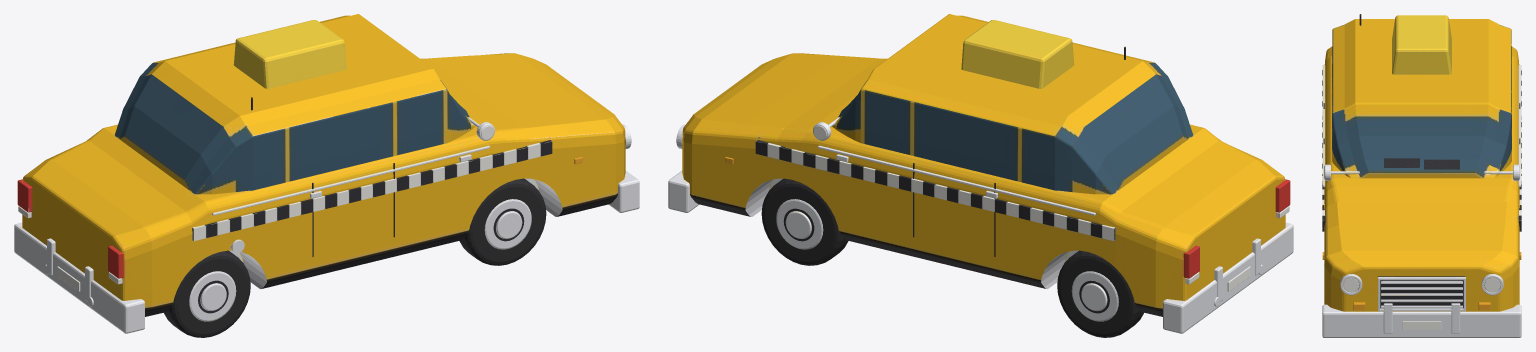
Rendered from Modle_Vehicle_AcrossTaxi.obj.
3 views of the same model, side by side, from view 1: azimuth 30°, elevation 25°; view 2: azimuth 150°, elevation 25°; view 3: azimuth 270°, elevation 25° (orthographic). The views are drawn at different scales.
Parts seen in each view (by area): view 1: GEO-TaxiAcross; view 2: GEO-TaxiAcross; view 3: GEO-TaxiAcross.
Boxes of the visible parts, <box> form: GEO-TaxiAcross: <box>14,14,639,337</box>; GEO-TaxiAcross: <box>668,14,1293,337</box>; GEO-TaxiAcross: <box>1322,14,1521,337</box>.
Size of the model in its own units: 5.2 by 2.25 by 1.95.
